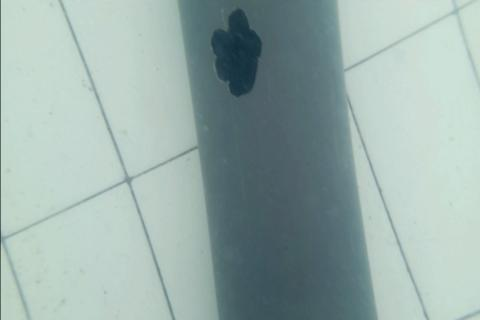kebocoran: (209, 5, 263, 98)
